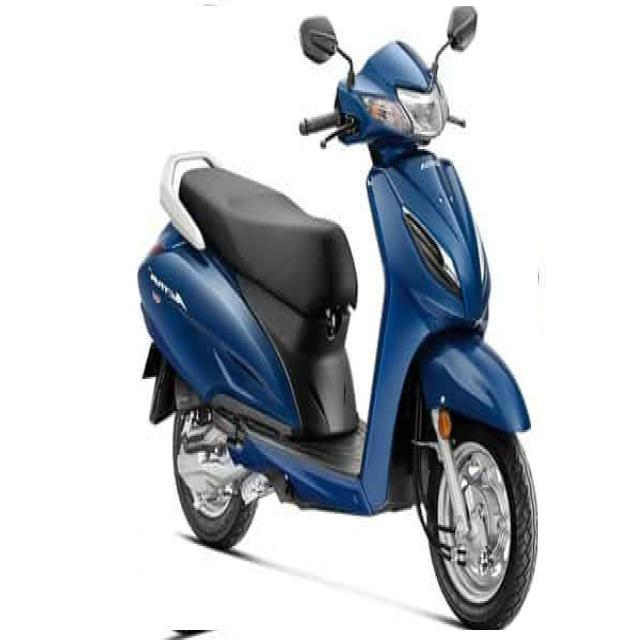motorcycle: (138, 6, 538, 630)
